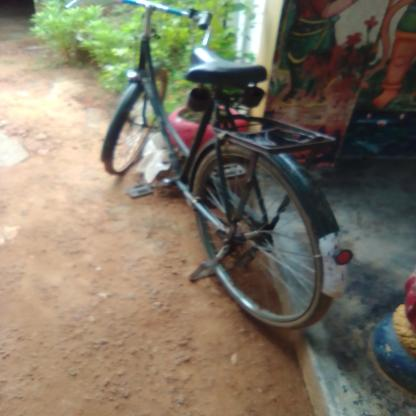bicycle: (76, 1, 381, 349)
